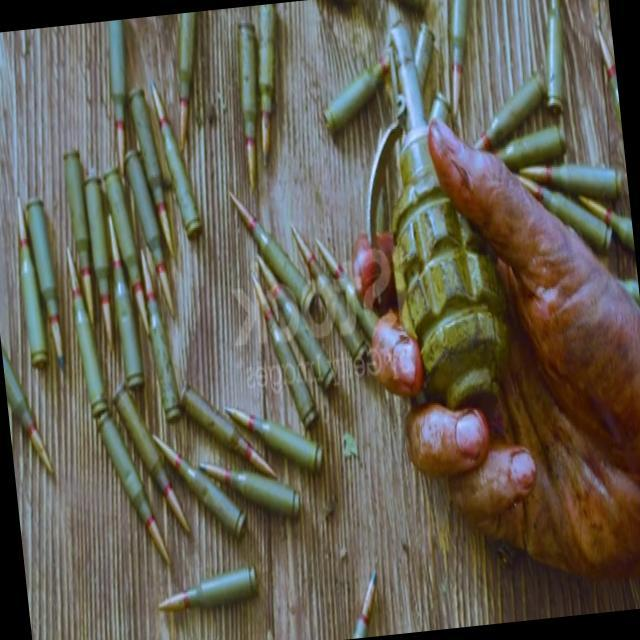grenade: (362, 6, 524, 408)
